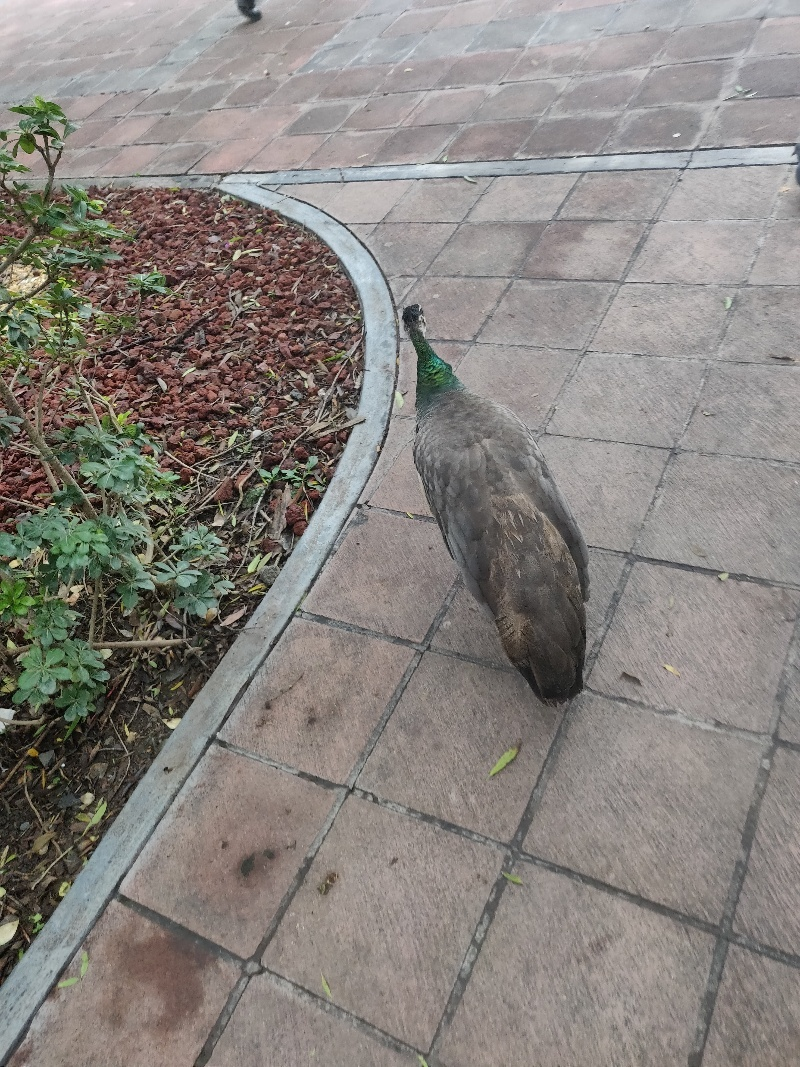pavoreal: (395, 301, 581, 700)
